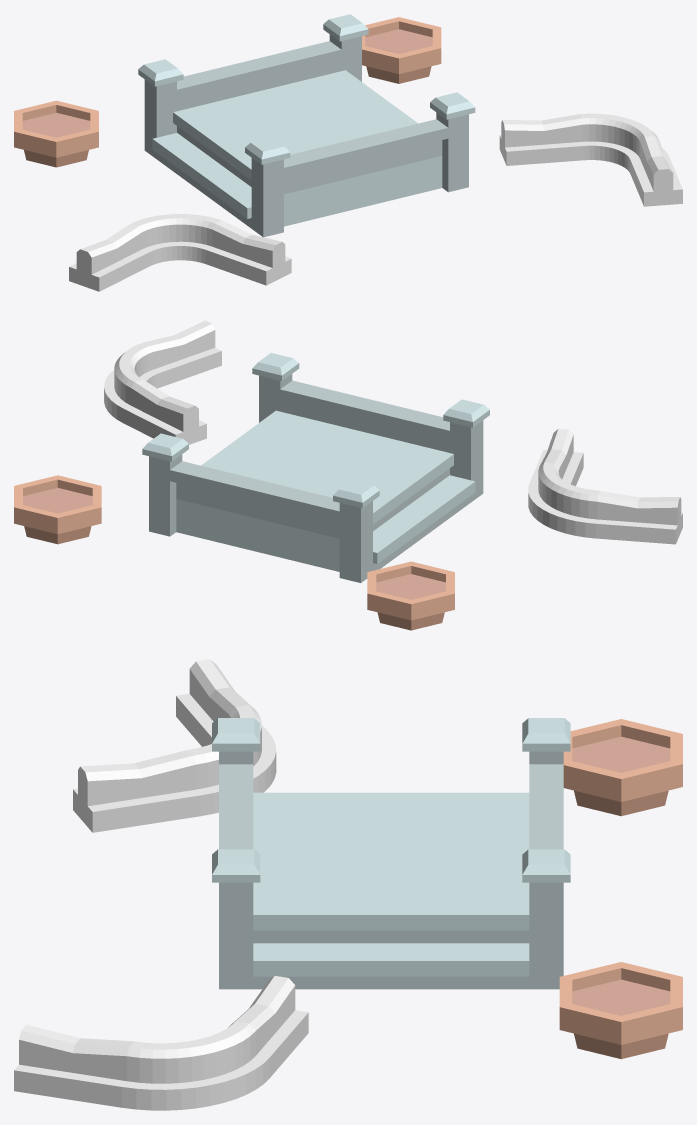
Rendered from combo-stone-bridge-garden.glb.
3 renders of one model, top to bottom at view 1: azimuth 30°, elevation 25°; view 2: azimuth 150°, elevation 25°; view 3: azimuth 270°, elevation 25°, orthographic. The views are drawn at different scales.
Parts seen in each view (by area): view 1: 00_asset-093, 01_asset-054, 02_asset-054, 03_asset-094, 04_asset-094; view 2: 00_asset-093, 01_asset-054, 02_asset-054, 04_asset-094, 03_asset-094; view 3: 00_asset-093, 02_asset-054, 01_asset-054, 04_asset-094, 03_asset-094.
Boxes of the visible parts, <box> form: 00_asset-093: <box>138,14,475,237</box>; 01_asset-054: <box>69,214,291,291</box>; 02_asset-054: <box>499,113,682,206</box>; 03_asset-094: <box>14,100,98,167</box>; 04_asset-094: <box>362,17,441,83</box>; 00_asset-093: <box>142,353,489,582</box>; 01_asset-054: <box>528,428,682,544</box>; 02_asset-054: <box>104,320,221,444</box>; 04_asset-094: <box>14,475,101,544</box>; 03_asset-094: <box>367,561,454,630</box>; 00_asset-093: <box>212,718,570,989</box>; 02_asset-054: <box>14,976,308,1110</box>; 01_asset-054: <box>73,659,276,832</box>; 04_asset-094: <box>559,962,682,1059</box>; 03_asset-094: <box>563,719,682,816</box>.
Bounding box in the file's own units: 8.28 × 1.2 × 5.82.
